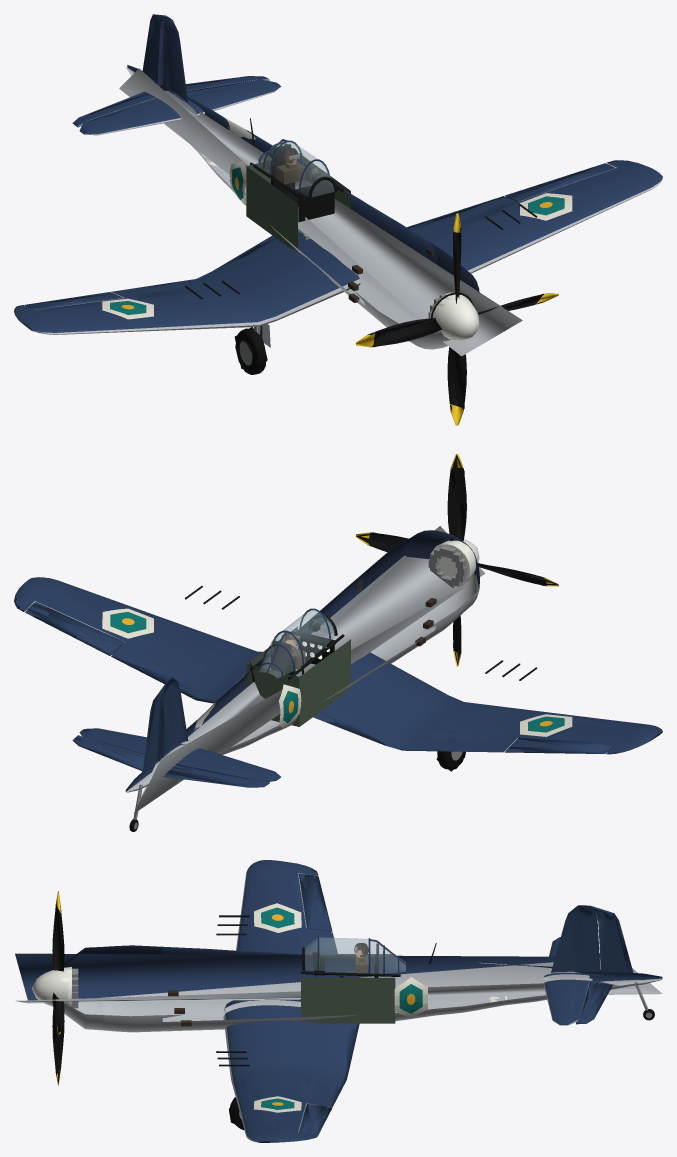
File: Stormgull.glb
The picture shows the model from 3 angles, top to bottom: view 1: azimuth 30°, elevation 25°; view 2: azimuth 150°, elevation 25°; view 3: azimuth 270°, elevation 25°; orthographic projection. The views are drawn at different scales.
Parts seen in each view (by area): view 1: L2_Fuselage, L2_WingR, L2_WingL, L1_WingR, L0_Interior, L0_Fuselage, L1_WingL, L0_WingR, L1_Fuselage, L2_Tail, L2_Propeller, L1_Tail (+11 smaller); view 2: L2_Fuselage, L2_WingR, L2_WingL, L0_Fuselage, L1_WingR, L1_Fuselage, L0_Interior, L1_WingL, L0_WingR, L2_Tail, L0_Propeller, L0_Glass (+11 smaller); view 3: L2_Fuselage, L2_WingL, L0_Fuselage, L1_Fuselage, L1_WingL, L0_Interior, L2_WingR, L2_Tail, L0_Glass, L0_WingL, L1_WingR, L0_WingR (+9 smaller).
Part boxes in pixels (box(x1,y1,x2,y2)): L2_Fuselage: box(119, 68, 522, 356); L2_WingR: box(14, 235, 360, 334); L2_WingL: box(358, 160, 662, 278); L1_WingR: box(15, 232, 357, 334); L0_Interior: box(246, 144, 350, 251); L0_Fuselage: box(126, 65, 475, 349); L1_WingL: box(407, 160, 662, 273); L0_WingR: box(15, 233, 360, 334); L1_Fuselage: box(126, 65, 479, 348); L2_Tail: box(80, 17, 280, 135); L2_Propeller: box(356, 214, 557, 424); L1_Tail: box(80, 17, 280, 135); L2_Fuselage: box(134, 526, 484, 813); L2_WingR: box(316, 652, 662, 754); L2_WingL: box(14, 577, 262, 703); L0_Fuselage: box(125, 530, 479, 792); L1_WingR: box(318, 654, 662, 753); L1_Fuselage: box(126, 530, 479, 792); L0_Interior: box(246, 623, 350, 726); L1_WingL: box(14, 577, 260, 702); L0_WingR: box(313, 660, 658, 753); L2_Tail: box(80, 678, 280, 781); L0_Propeller: box(355, 454, 558, 665); L0_Glass: box(259, 610, 334, 677); L2_Fuselage: box(15, 939, 662, 1003); L2_WingL: box(216, 1005, 359, 1142); L0_Fuselage: box(64, 936, 662, 1032); L1_Fuselage: box(64, 938, 662, 1032); L1_WingL: box(216, 1005, 356, 1142); L0_Interior: box(301, 943, 395, 1023); L2_WingR: box(218, 860, 337, 1013); L2_Tail: box(543, 905, 600, 1025); L0_Glass: box(305, 937, 405, 972); L0_WingL: box(216, 1006, 346, 1142); L1_WingR: box(218, 860, 331, 1011); L0_WingR: box(216, 860, 331, 1012).
Size of the model in its own units: 12.44 by 4 by 12.14.
